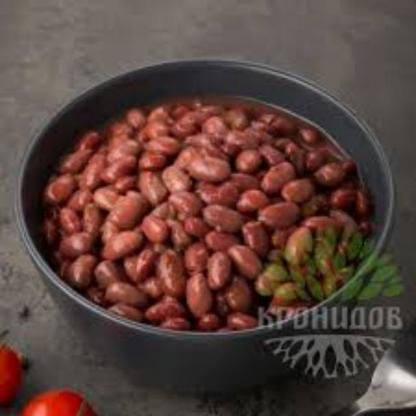fasol: (29, 78, 377, 342)
